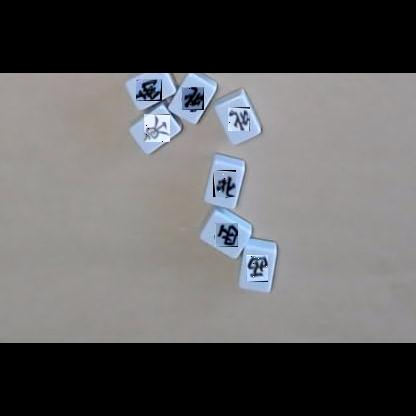1z: (144, 114, 170, 142)
2z: (136, 79, 162, 101)
3z: (246, 255, 268, 282), (215, 223, 238, 247)
4z: (213, 170, 236, 197), (228, 107, 250, 131), (182, 87, 204, 110)
